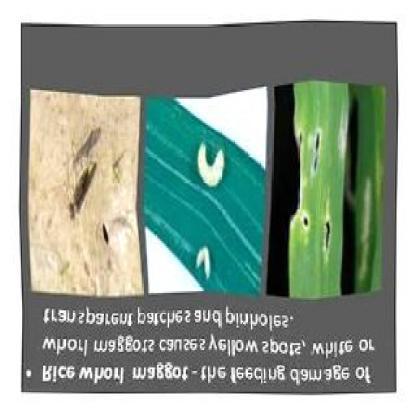whorl-maggot: (194, 136, 226, 192), (192, 240, 214, 281)
